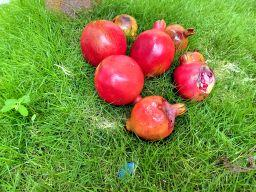pomegranate: (125, 95, 188, 140), (130, 20, 174, 78), (93, 56, 144, 106), (81, 19, 127, 67), (173, 62, 216, 101), (163, 23, 195, 49), (110, 13, 138, 41)
